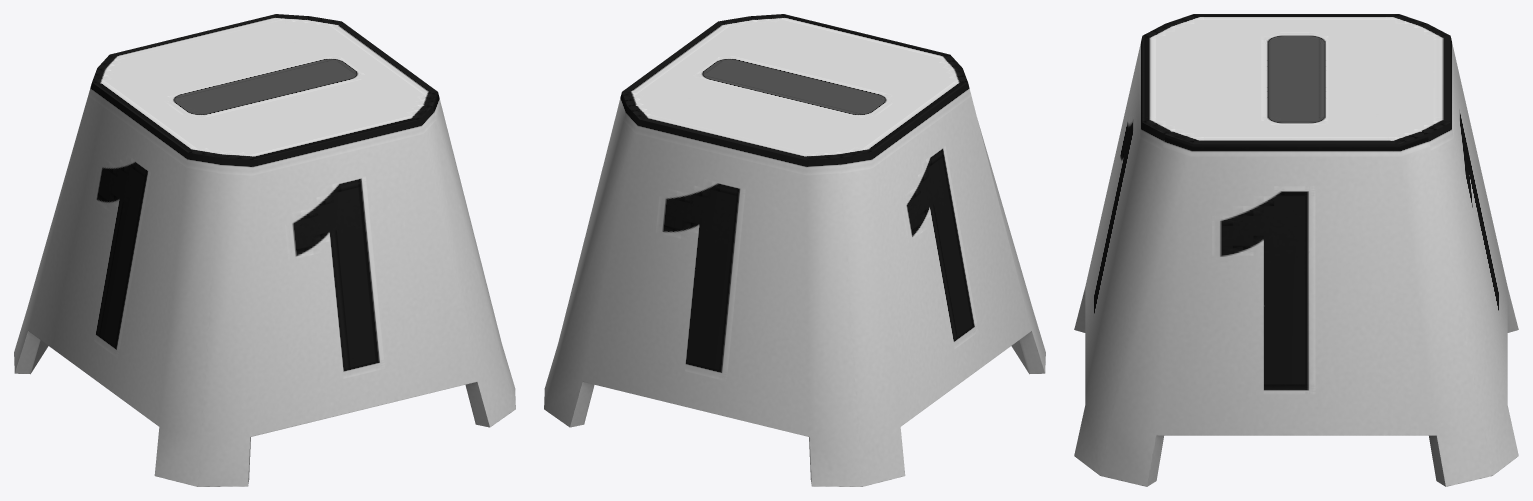
3 views of the same model, side by side, from view 1: azimuth 30°, elevation 25°; view 2: azimuth 150°, elevation 25°; view 3: azimuth 270°, elevation 25° (orthographic). The views are drawn at different scales.
Parts seen in each view (by area): view 1: No_1_Box; view 2: No_1_Box; view 3: No_1_Box.
Part boxes in pixels (<box>): No_1_Box: <box>14,14,515,486</box>; No_1_Box: <box>544,14,1045,486</box>; No_1_Box: <box>1074,14,1518,486</box>.
Bounding box in the file's own units: 0.4097 × 0.319 × 0.4097.
1 material, 1 textured.
